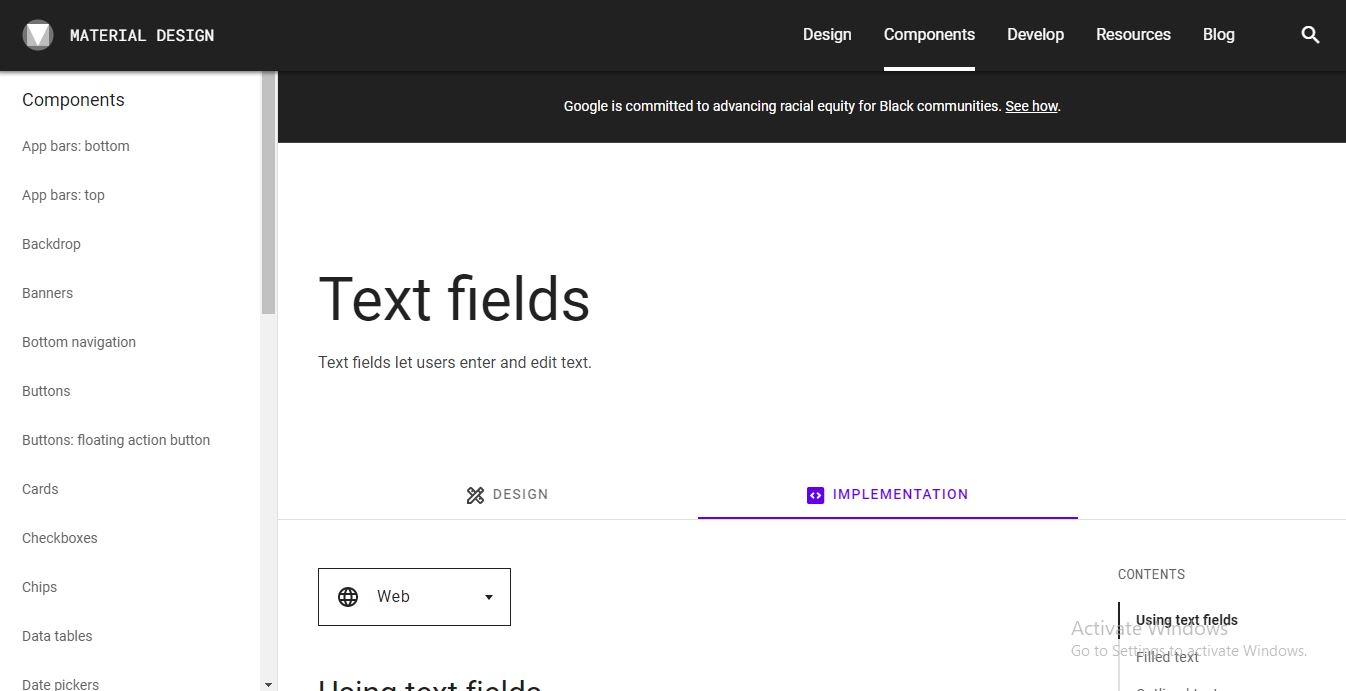Menu Bar: (760, 0, 1253, 74)
Side Bar: (4, 72, 260, 691), (1104, 516, 1346, 691)
